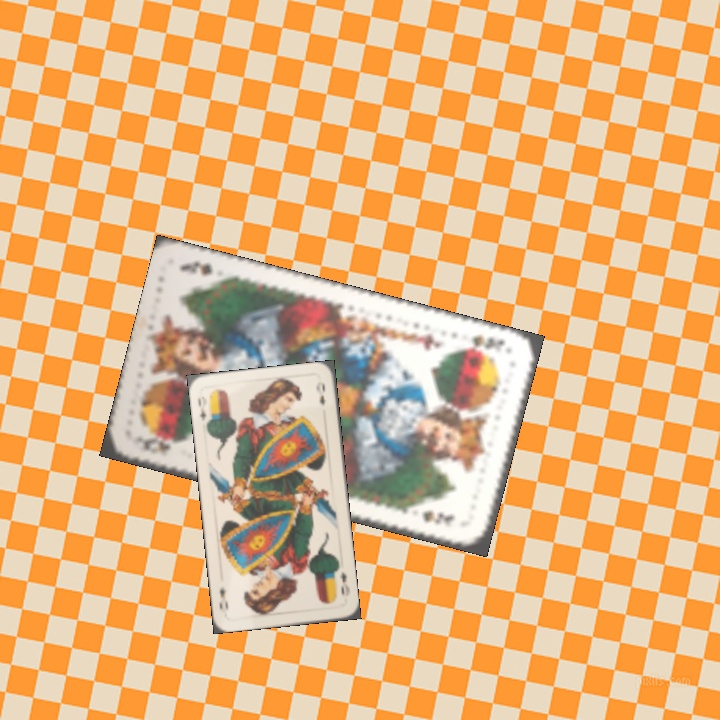EO: (194, 394, 214, 429), (336, 567, 349, 597)
SK: (458, 330, 507, 357), (133, 433, 173, 456)
